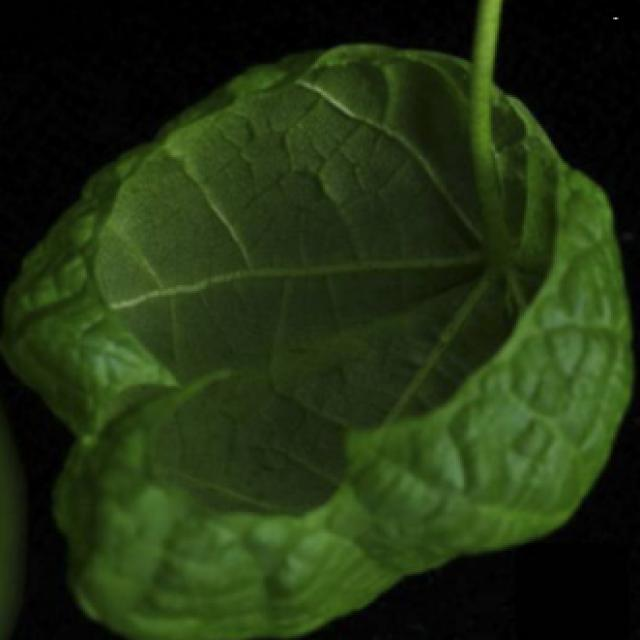Leaf Curl Virus: (127, 96, 589, 578)
